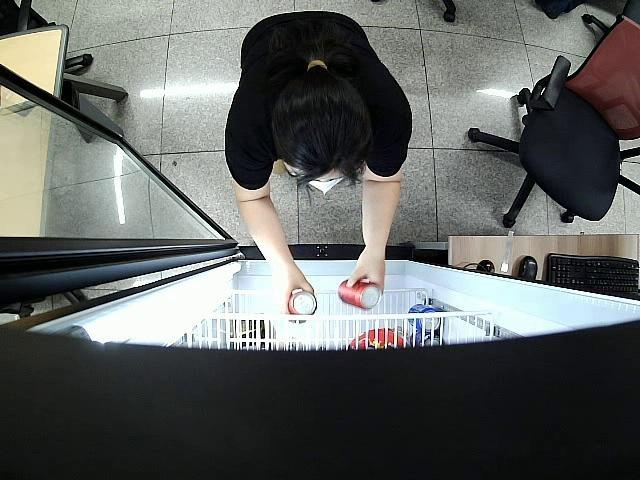11_cocaColaZero: (338, 278, 380, 308), (286, 288, 318, 316)
